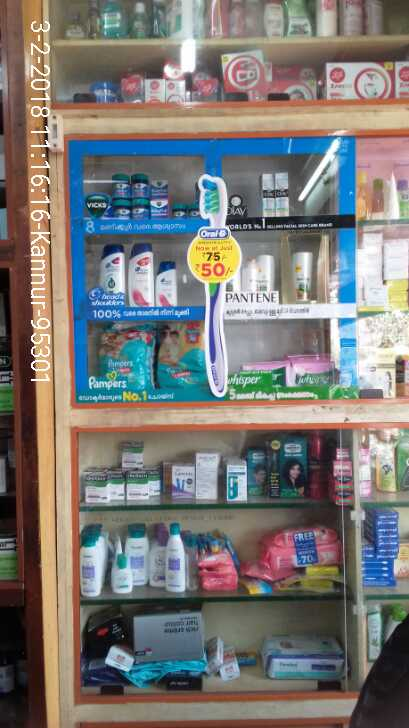vicks: (110, 174, 207, 220)
